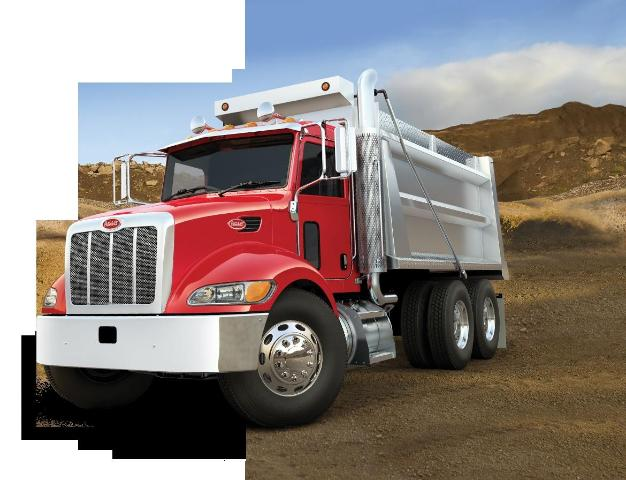truck: (19, 76, 542, 402)
